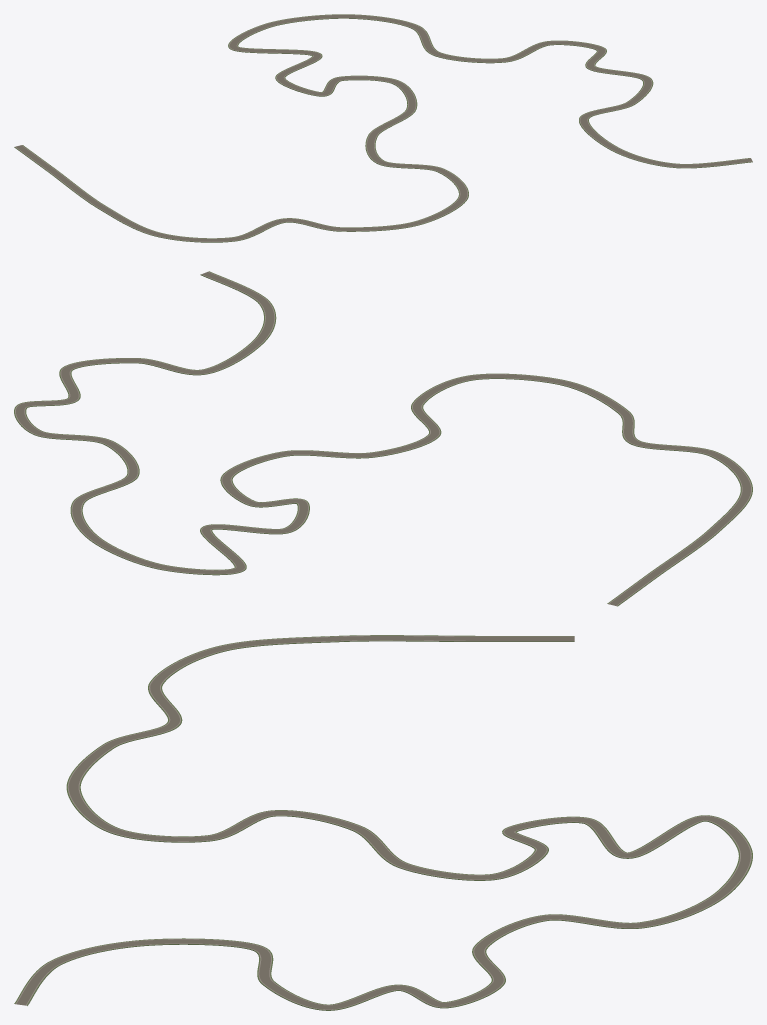
The model's file is road_stage_pine_ridge.glb.
3 views of the same model, one above another, from view 1: azimuth 30°, elevation 25°; view 2: azimuth 150°, elevation 25°; view 3: azimuth 270°, elevation 25° (orthographic). The views are drawn at different scales.
Parts seen in each view (by area): view 1: road; view 2: road; view 3: road.
Part boxes in pixels (x1,y1,x2,y2): road: (14,14,752,242); road: (14,271,752,606); road: (14,635,752,1010).
Bounding box in the file's own units: 754 × 0.32 × 627.
